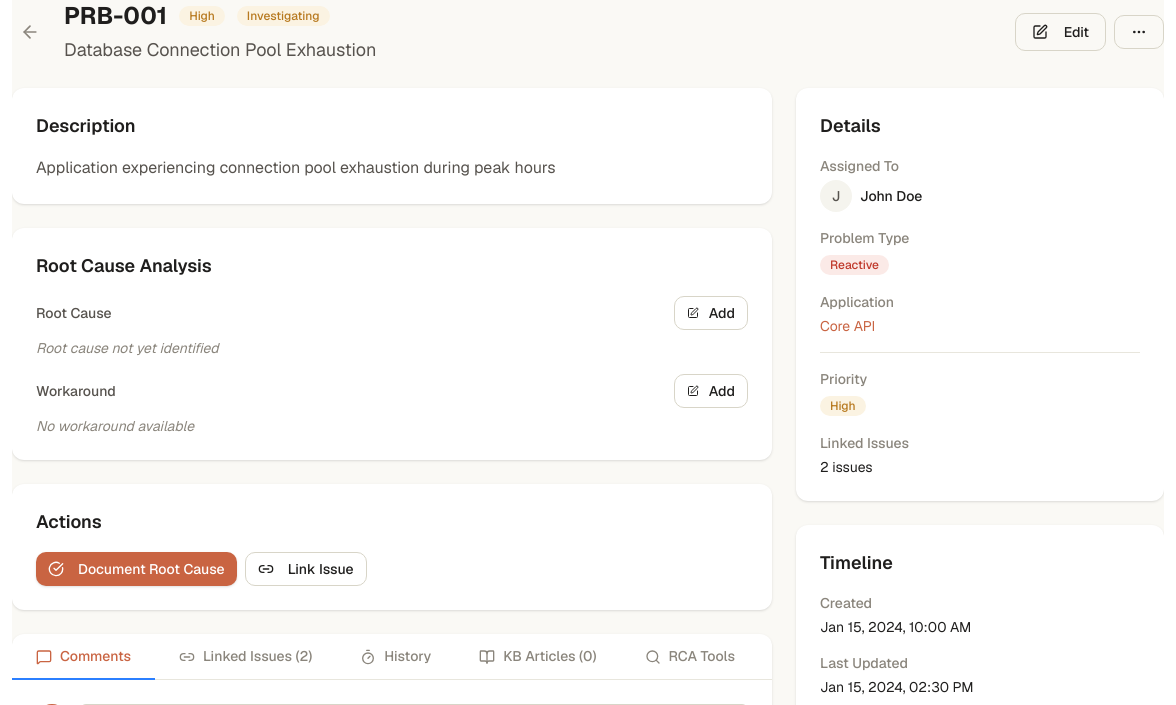
Scenario: ProblemDetailPage › Tabs Navigation › switches to knowledge base tab when clicked
Click the button "KB Articles (0)" at (538, 657), box [455,634,621,680]
(page scrolled)
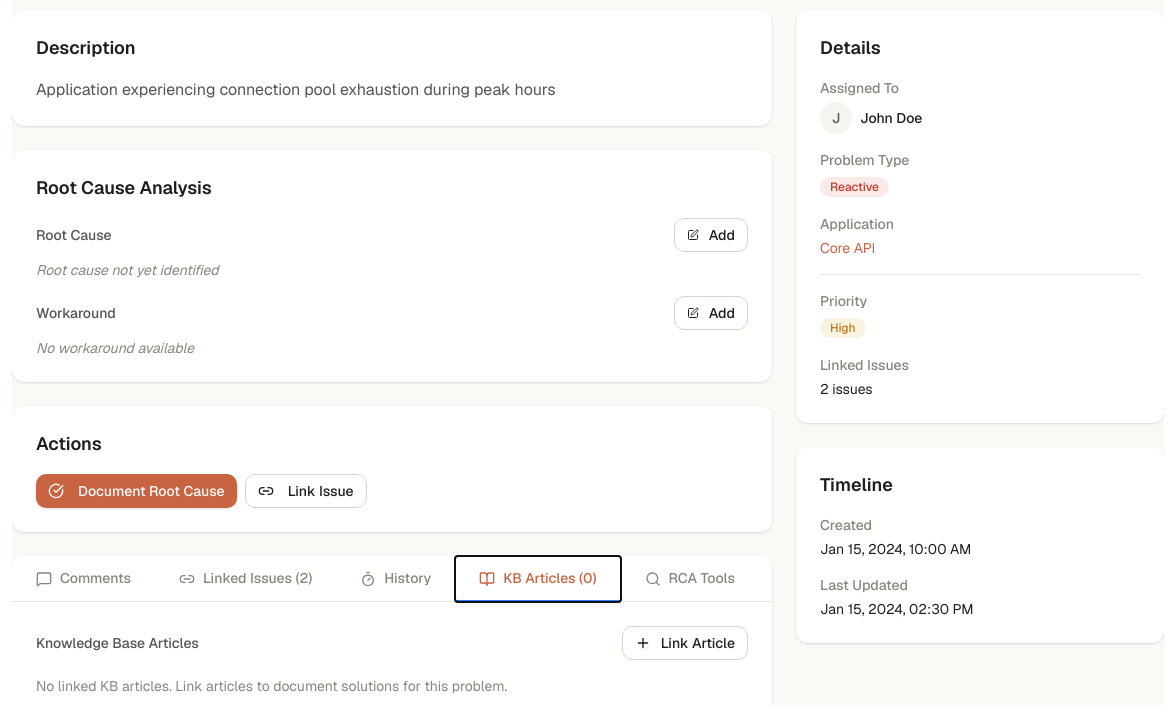
Expected: the button "Link Article" is shown, [622,626,748,660]
